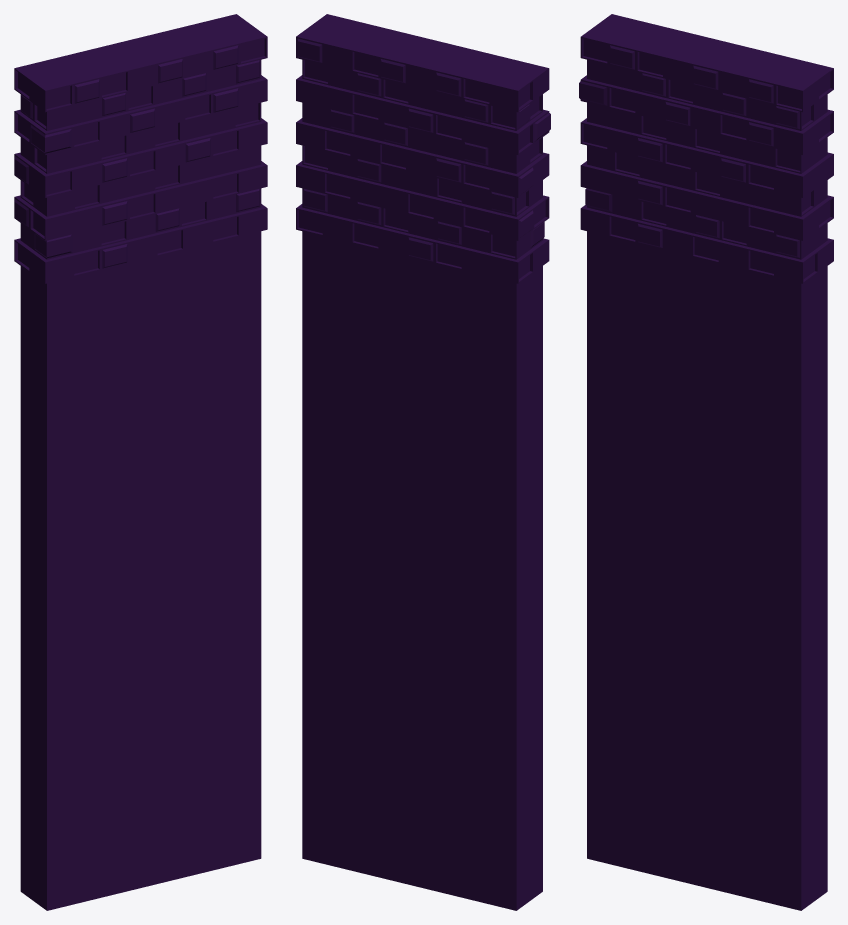
Rendered from HighPlatformRectUV.FBX.
The picture shows the model from 3 angles, left to right: view 1: azimuth 30°, elevation 25°; view 2: azimuth 150°, elevation 25°; view 3: azimuth 330°, elevation 25°; orthographic projection.
Parts seen in each view (by area): view 1: HighPlatformRect; view 2: HighPlatformRect; view 3: HighPlatformRect.
Boxes of the visible parts, <box> form: HighPlatformRect: <box>14,14,267,910</box>; HighPlatformRect: <box>296,14,550,910</box>; HighPlatformRect: <box>579,14,833,910</box>.
Bounding box in the file's own units: 2937 × 10317 × 747.
